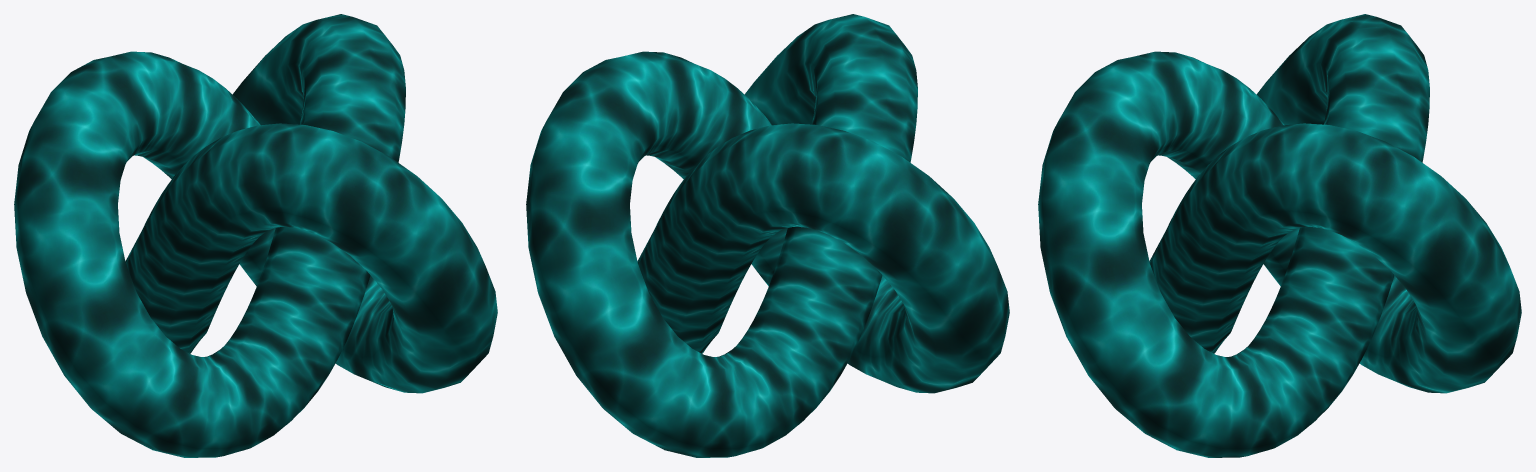
File: texturedknot.obj
The picture shows the model from 3 angles, left to right: view 1: azimuth 30°, elevation 25°; view 2: azimuth 150°, elevation 25°; view 3: azimuth 270°, elevation 25°; orthographic projection.
Bounding box in the file's own units: 171 × 134 × 181.
Materials: 1 (1 with a texture image).
